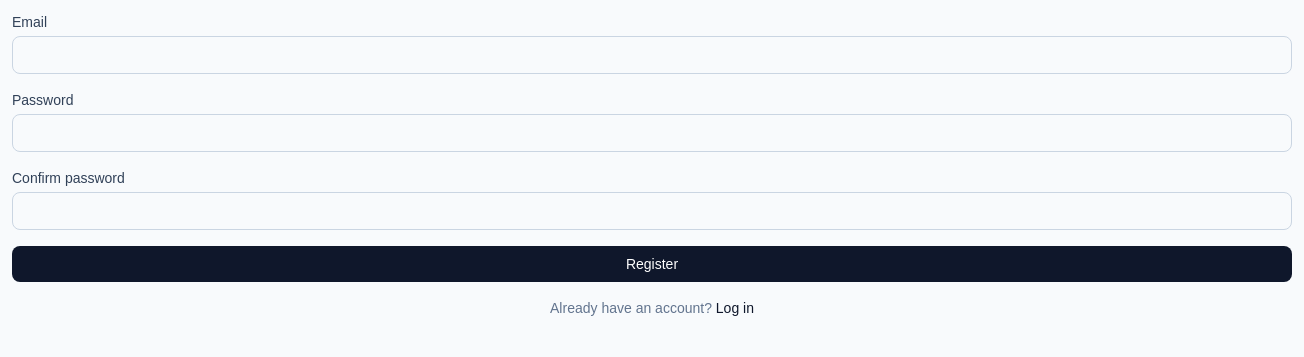
Test: RegisterForm (integration) › shows a validation error when the password is too short
Type "new-user@example.com" into the field labelled "Email" at coordinates (652, 55), box x1=12 y1=36 x2=1292 y2=74
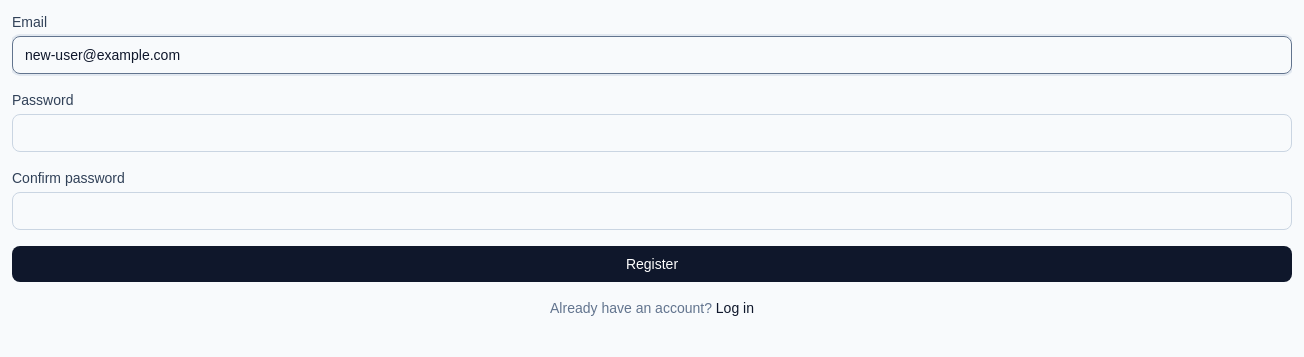
Type "short" into the password field labelled "Password" at coordinates (652, 133), box x1=12 y1=114 x2=1292 y2=152
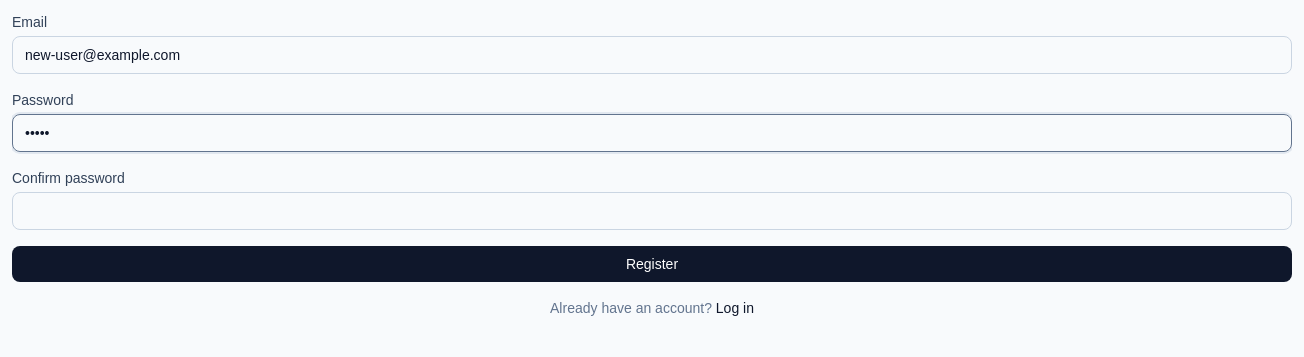
Type "short" into the password field labelled "Confirm password" at coordinates (652, 211), box x1=12 y1=192 x2=1292 y2=230
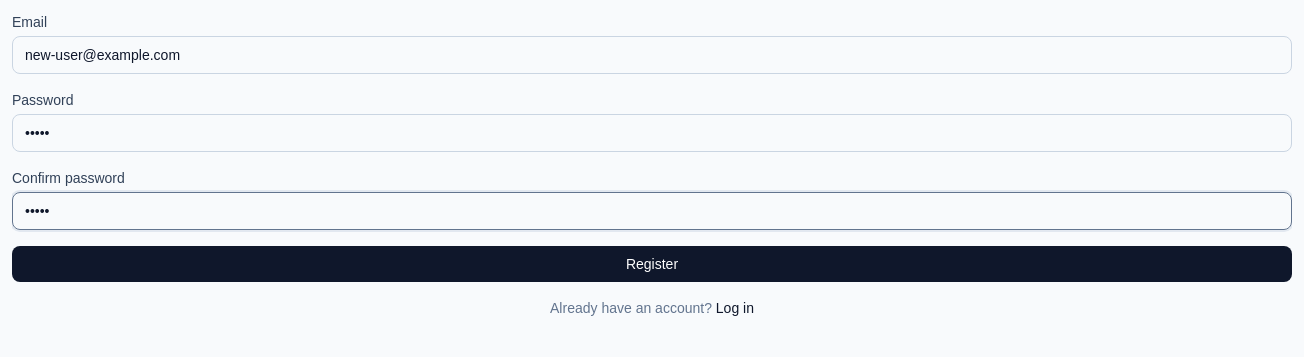
Click the button "Register" at coordinates (652, 264), box x1=12 y1=246 x2=1292 y2=282
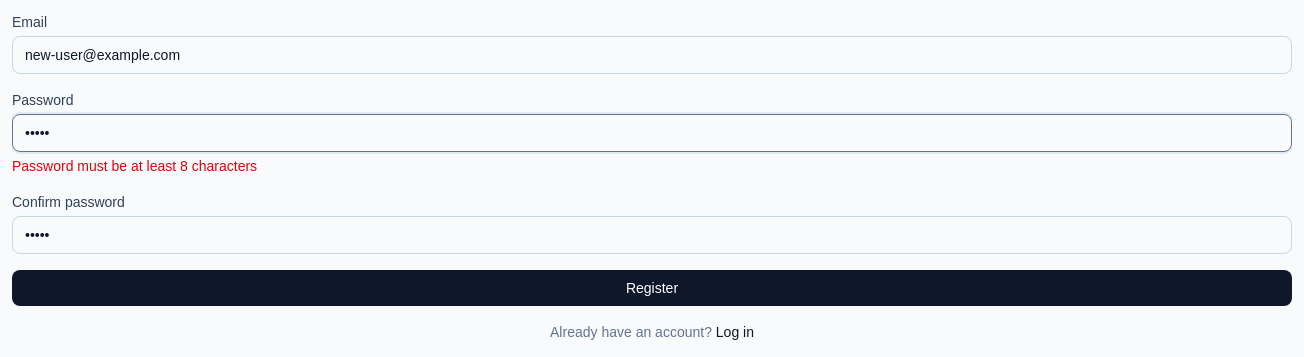
Expected: the message reads "Password must be at least 8 characters", x1=12 y1=158 x2=257 y2=174
